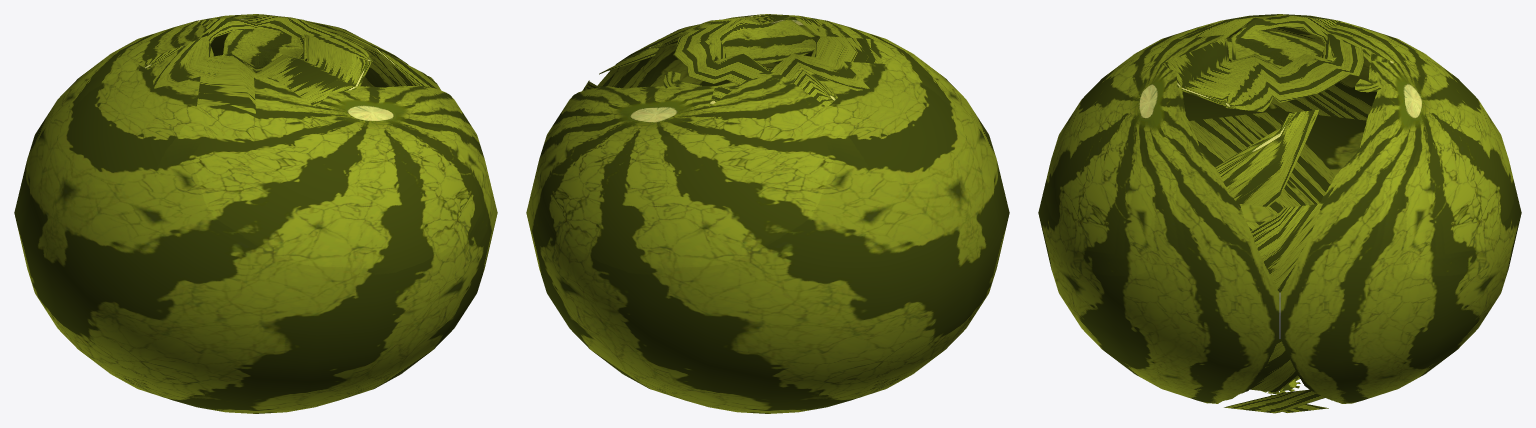
File: Blueberry.fbx
3 renders of one model, left to right at view 1: azimuth 30°, elevation 25°; view 2: azimuth 150°, elevation 25°; view 3: azimuth 270°, elevation 25°, orthographic.
Visible parts, largest first — view 1: Blueberry, Blueberry.001; view 2: Blueberry, Blueberry.001; view 3: Blueberry, Blueberry.001.
Boxes of the visible parts, bbox=[...] form: Blueberry: bbox=[14, 14, 497, 413]; Blueberry.001: bbox=[138, 14, 441, 113]; Blueberry: bbox=[526, 14, 1009, 413]; Blueberry.001: bbox=[582, 14, 885, 107]; Blueberry: bbox=[1038, 14, 1521, 403]; Blueberry.001: bbox=[1162, 14, 1397, 413].
Bounding box in the file's own units: 10.2 × 8.21 × 10.2.
